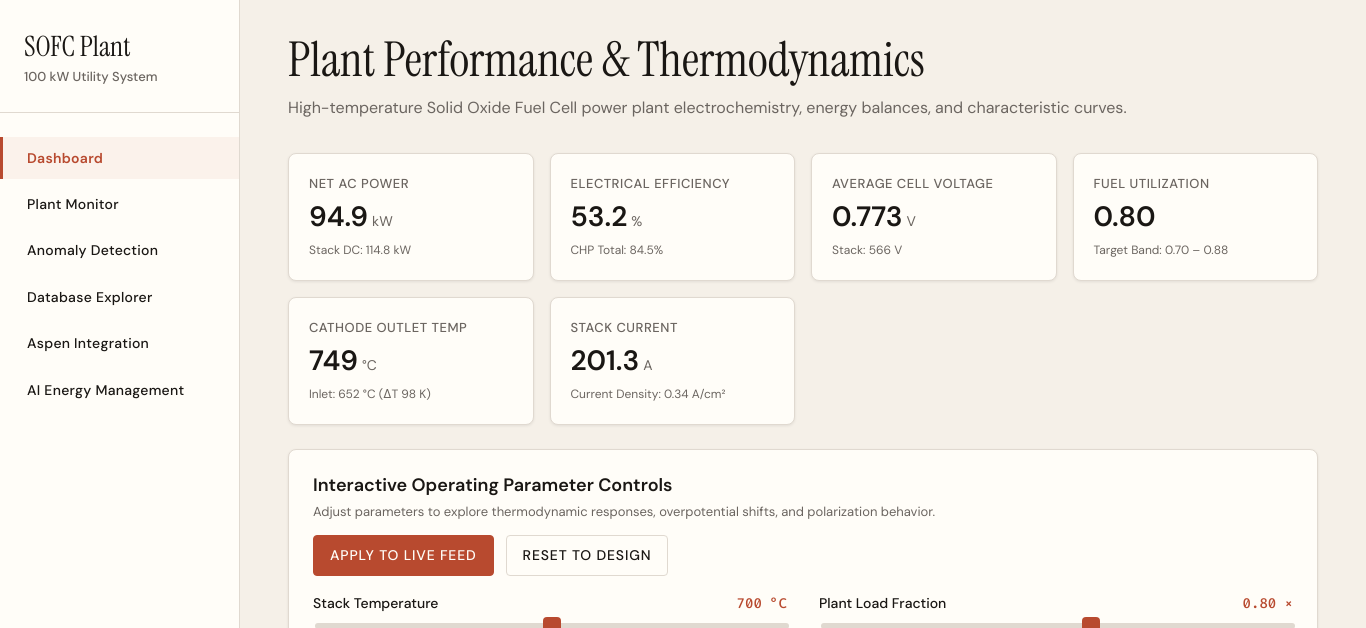
Scenario: Real-World Workload Scenarios & System Invariants (Tiers 3 & 4) › Scenario 4: Full application walk across all views with simulated backend offline & recovery
Walk across views
Click the link "Anomaly Detection" at (93, 250), box [27, 241, 158, 259]
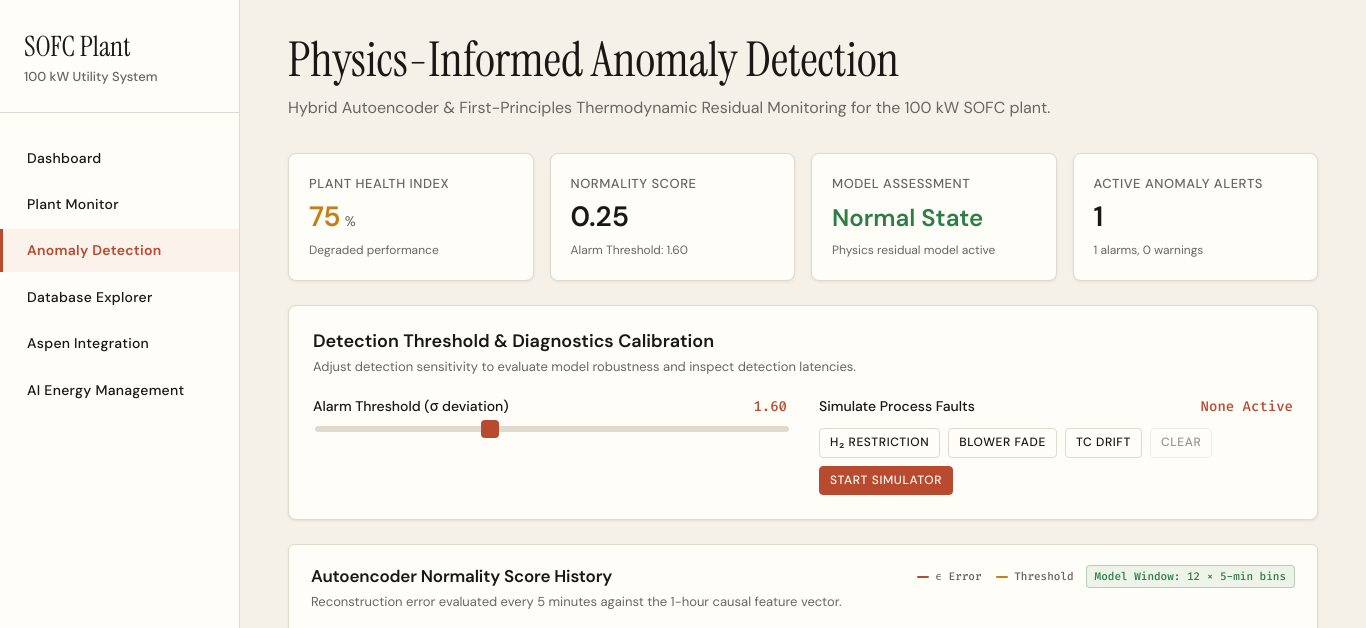
Expected: the heading "Physics-Informed Anomaly Detection" is shown, [288, 28, 899, 91]
Click the link "Plant Monitor" at (73, 204), box [27, 195, 119, 213]
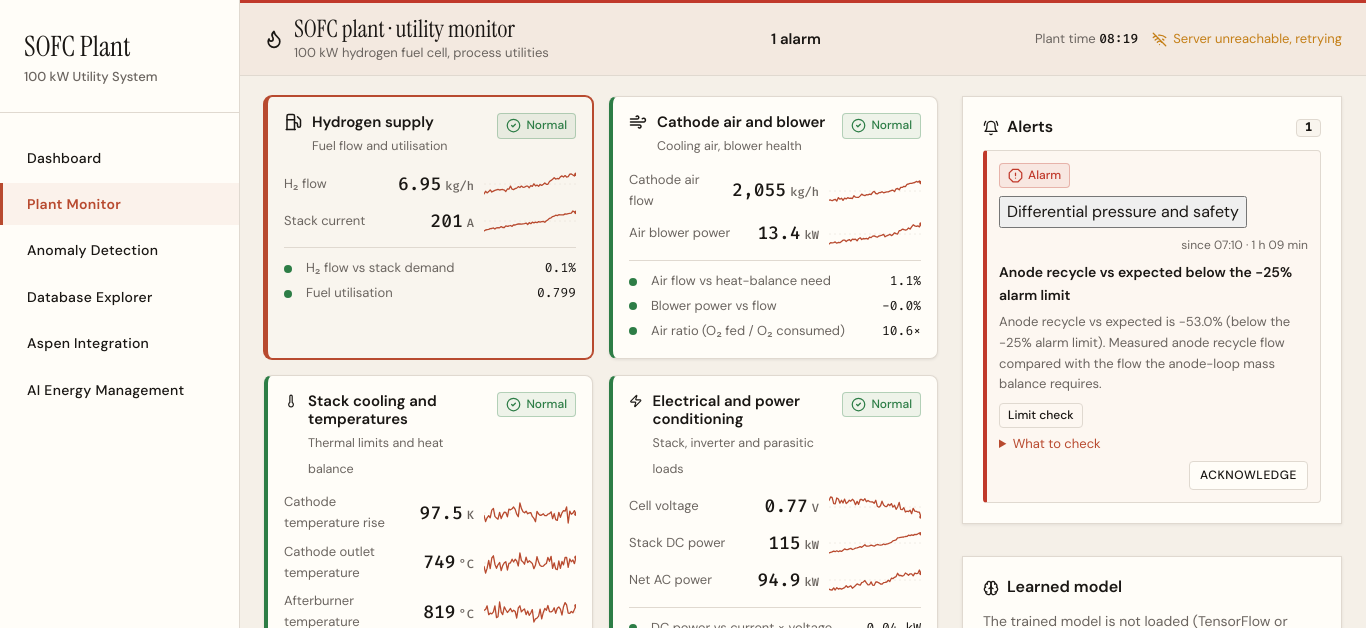
Expected: the link "Plant Monitor" is shown, [0, 183, 239, 225]
Expected: the text "Server unreachable, retrying" is shown, [1152, 29, 1342, 50]
